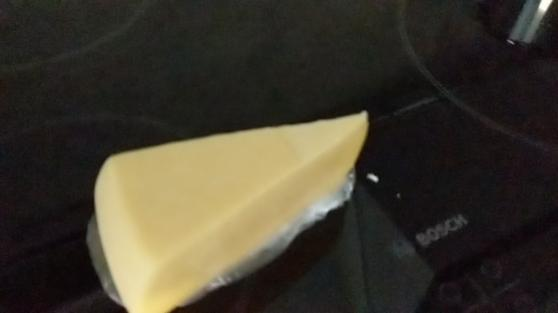cheese: (93, 104, 377, 313)
